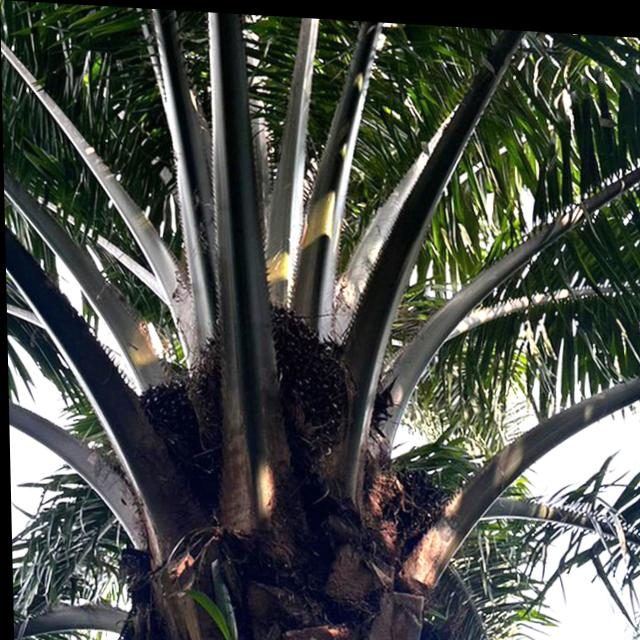unripe: (205, 297, 345, 468), (129, 374, 221, 522), (372, 455, 452, 547)
